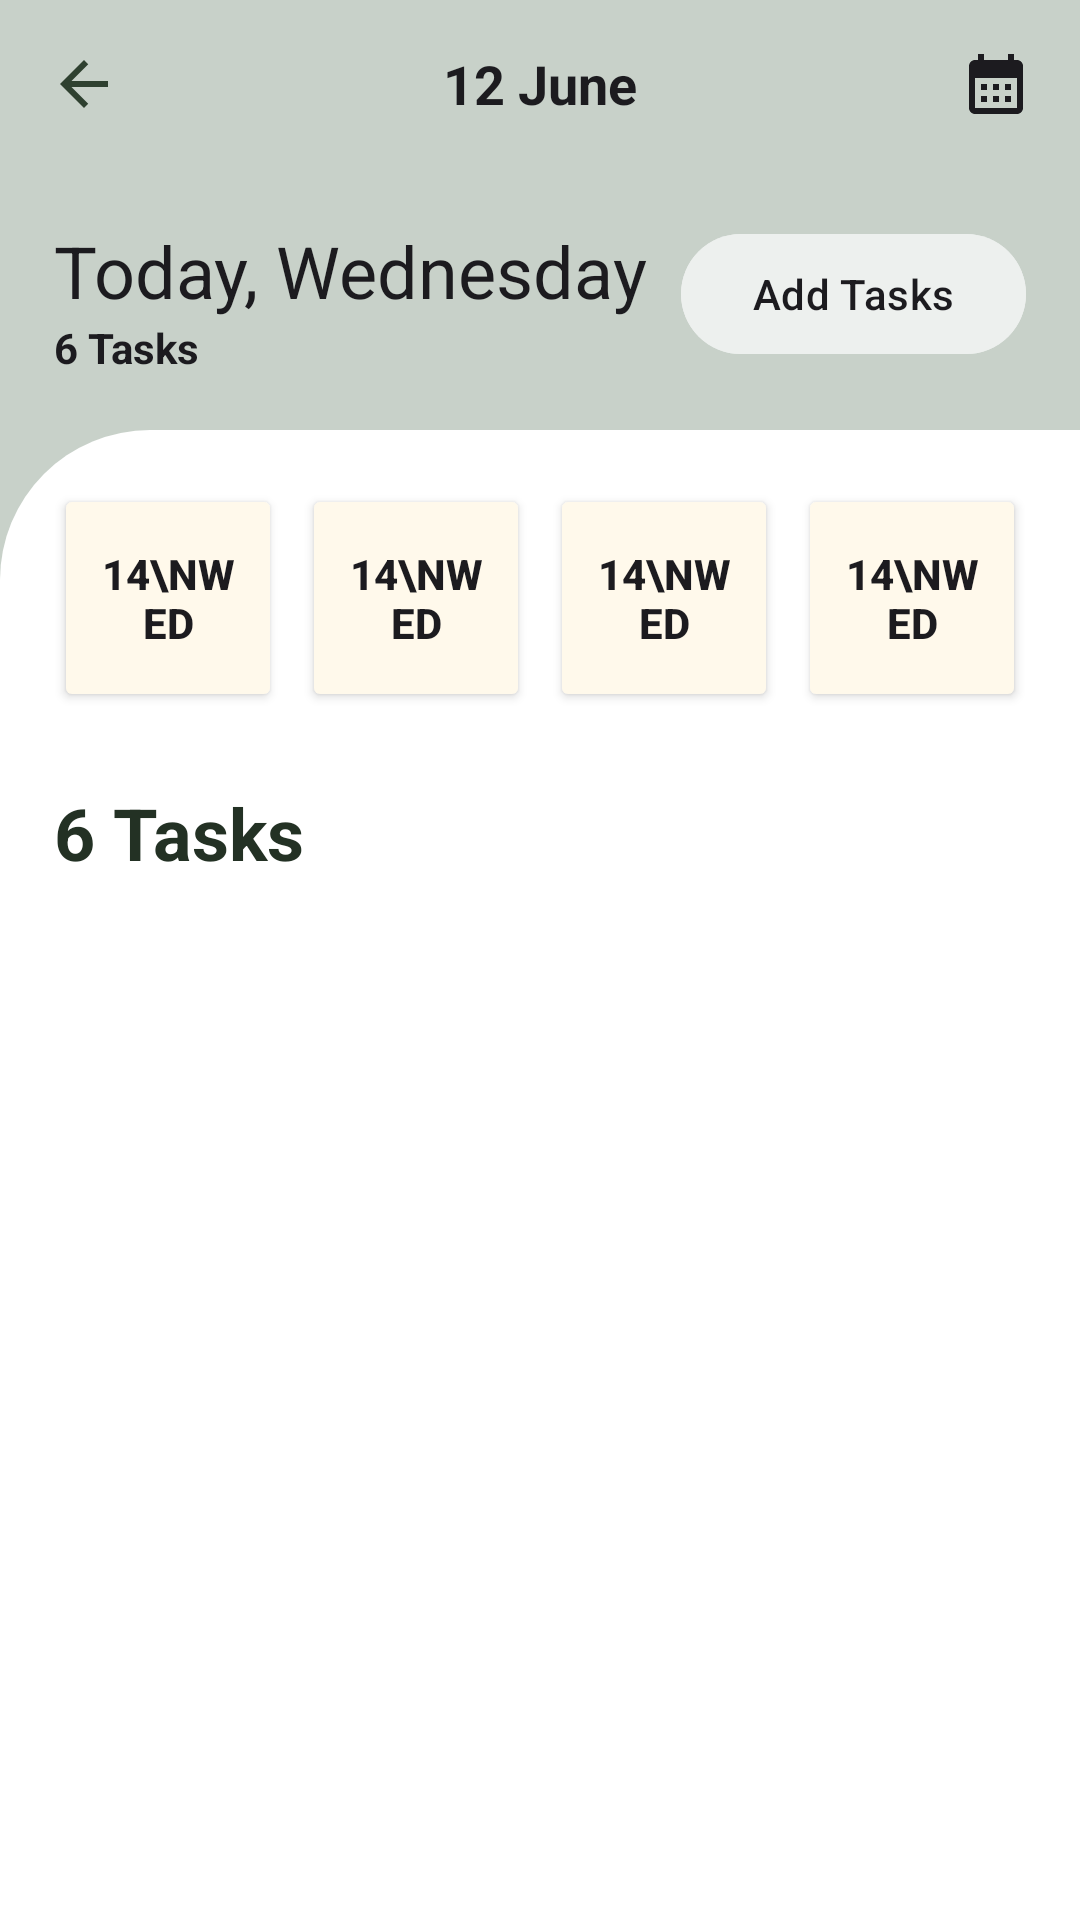

Named icons in this screenshot (1080 × 1920) and their bounding boxes, (x1, y1, x2, y2):
arrow back: (60, 60, 108, 108)
calendar month: (969, 54, 1023, 114)
